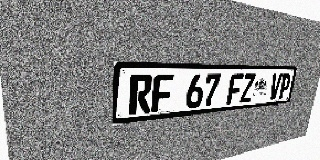6: (185, 74, 205, 109)
7: (202, 74, 221, 107)
F: (151, 74, 174, 113), (226, 74, 244, 104)
P: (278, 73, 292, 99)
R: (129, 74, 153, 115)
V: (268, 73, 283, 100)
Z: (239, 74, 256, 103)
